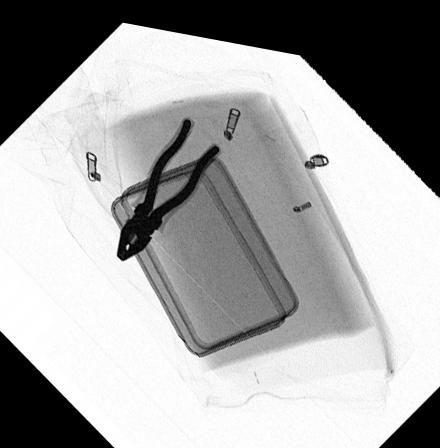Pliers: (113, 108, 221, 259)
